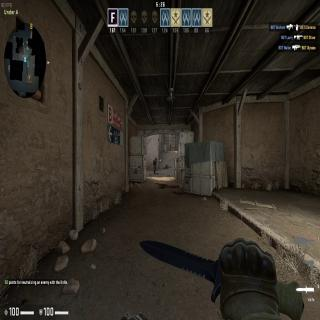T-Body: (153, 157, 157, 175), (169, 144, 171, 150)
T-Head: (155, 158, 157, 162), (170, 144, 171, 146)
